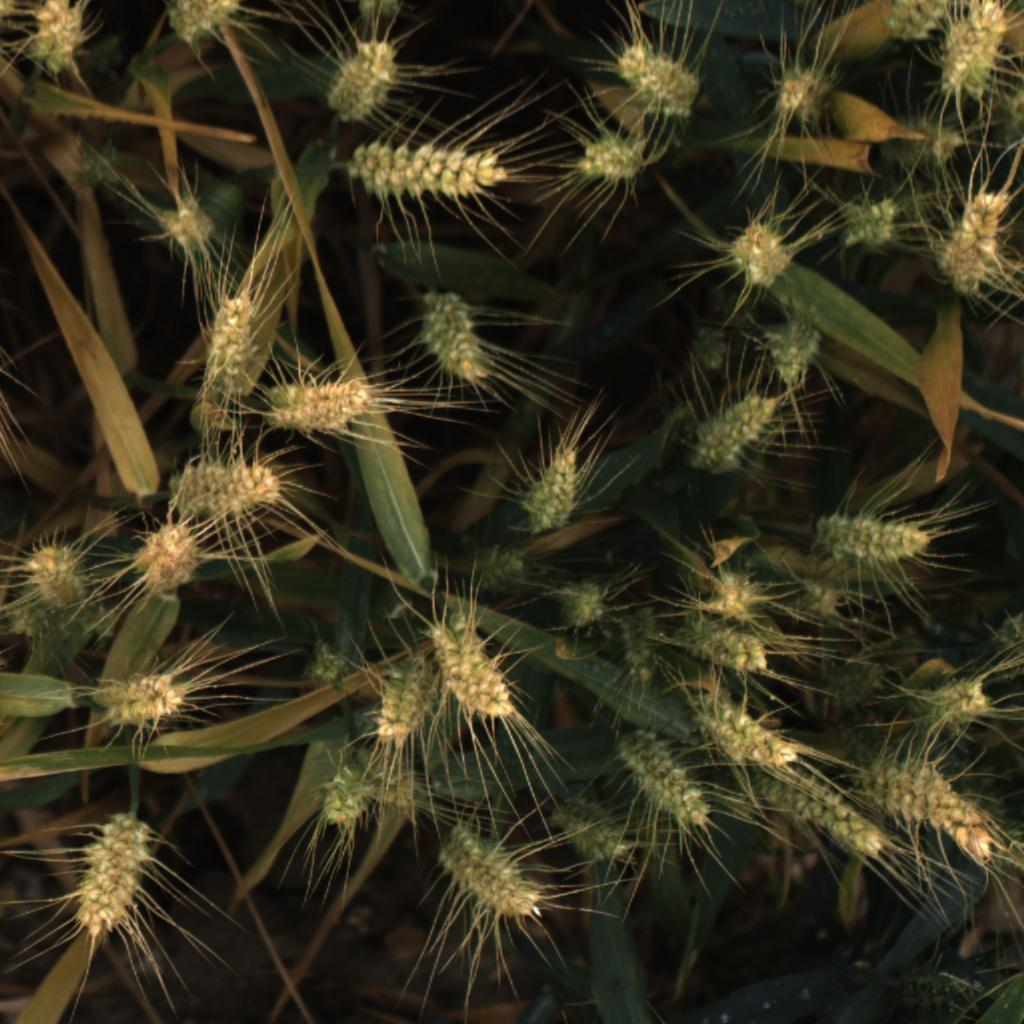0-0: (344, 743, 548, 927), (739, 753, 885, 858), (896, 753, 1000, 872), (619, 721, 717, 829), (74, 810, 154, 937), (428, 614, 519, 724), (346, 138, 508, 199), (854, 771, 997, 831), (666, 601, 774, 677), (935, 0, 1013, 102), (705, 697, 800, 776), (414, 285, 489, 385), (931, 191, 1014, 279), (322, 39, 403, 129), (612, 42, 702, 120), (688, 393, 778, 468), (267, 375, 376, 436), (200, 292, 262, 399), (816, 511, 941, 563), (170, 461, 283, 517), (89, 664, 183, 731), (370, 654, 435, 748), (950, 189, 1003, 302), (873, 0, 991, 50), (525, 438, 587, 533), (552, 793, 634, 862), (914, 672, 994, 739), (134, 516, 199, 596), (22, 0, 90, 76), (879, 116, 970, 172), (729, 213, 794, 289), (23, 537, 87, 611), (899, 963, 985, 1014), (311, 764, 373, 833), (167, 0, 253, 47), (768, 315, 821, 390), (790, 568, 857, 627), (971, 806, 1024, 879), (549, 574, 611, 635), (834, 708, 898, 767), (620, 603, 665, 685), (573, 135, 648, 184), (816, 659, 886, 709), (838, 194, 900, 250), (69, 134, 127, 192), (699, 568, 762, 621), (158, 197, 216, 254), (0, 596, 70, 643), (464, 540, 529, 590), (688, 316, 742, 374), (775, 70, 832, 123), (987, 609, 1024, 680), (298, 637, 347, 689), (69, 597, 125, 642), (1000, 86, 1024, 151), (351, 0, 404, 27), (0, 0, 20, 24)
